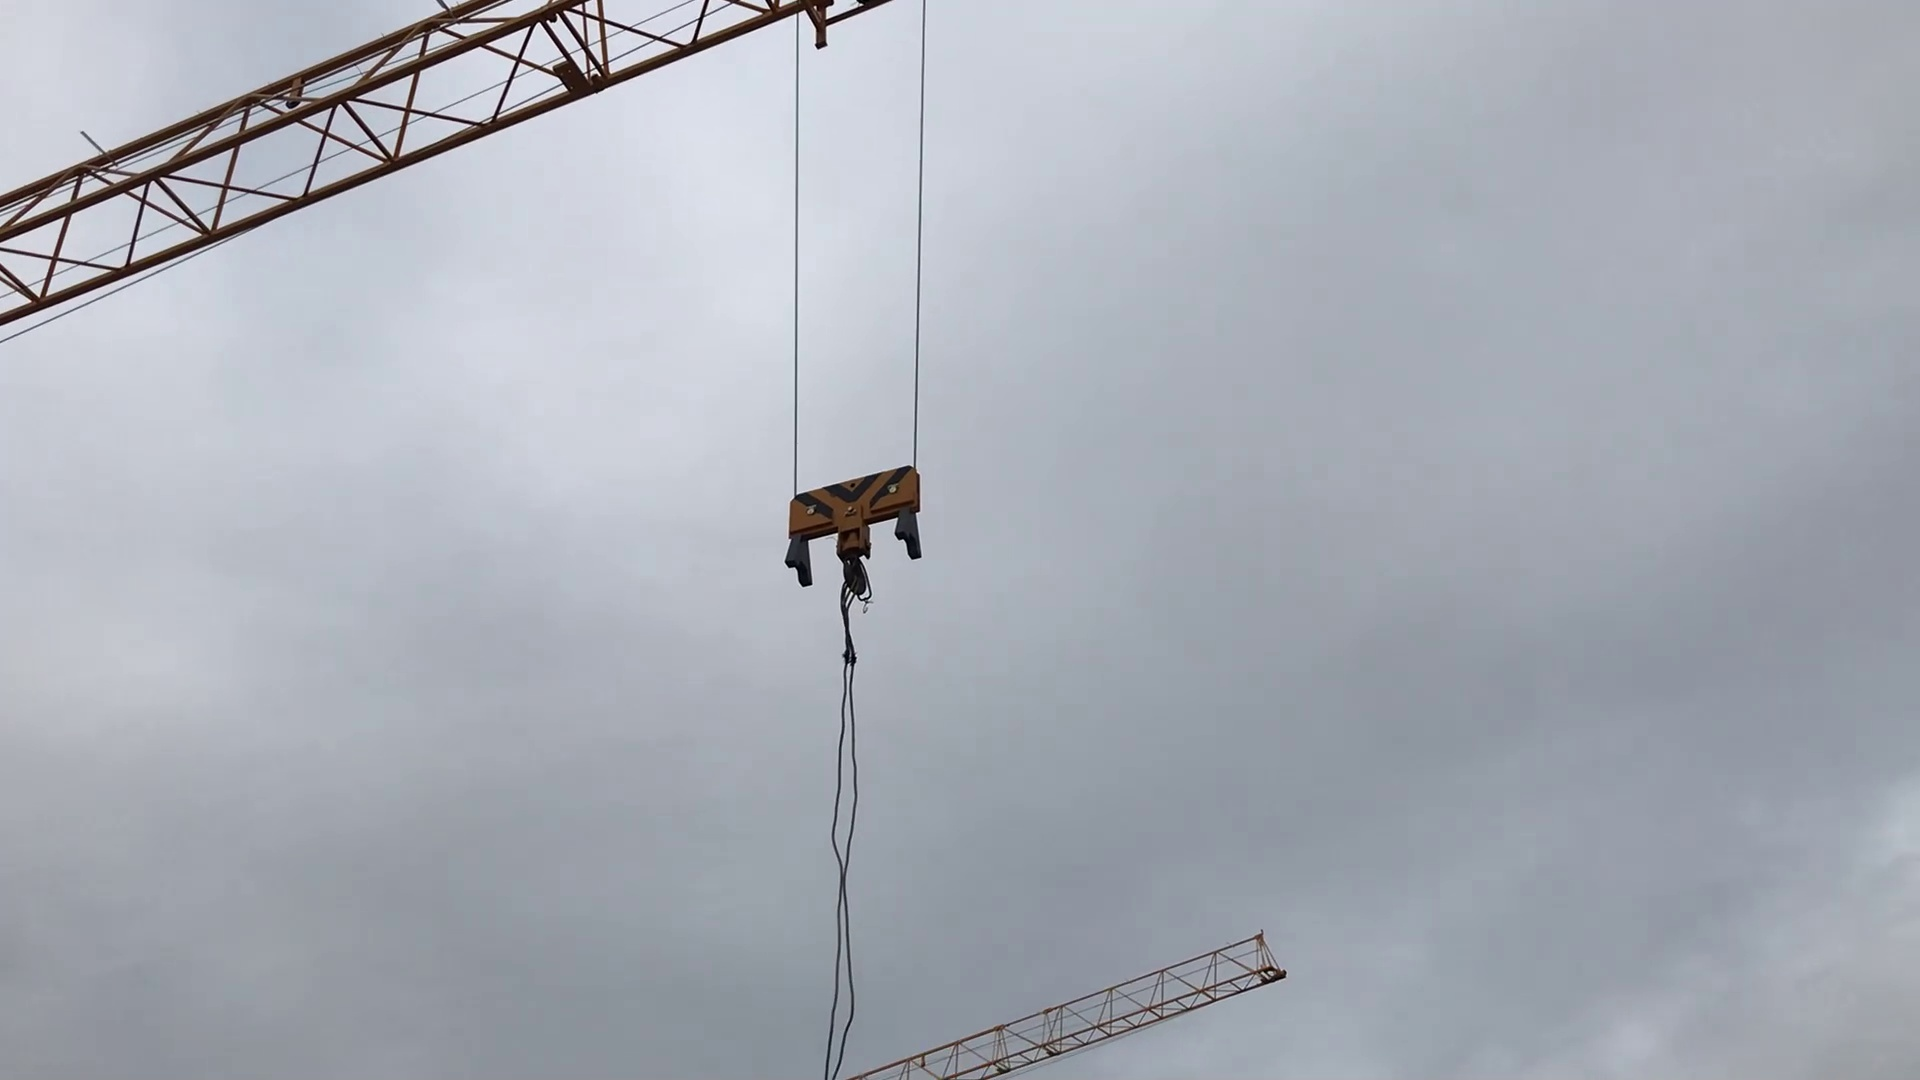hook: (782, 460, 930, 618)
